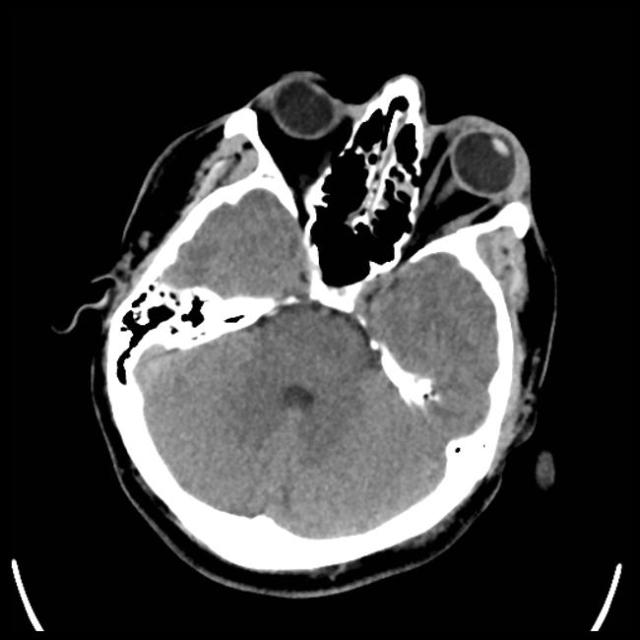lesion: (75, 68, 558, 596)
